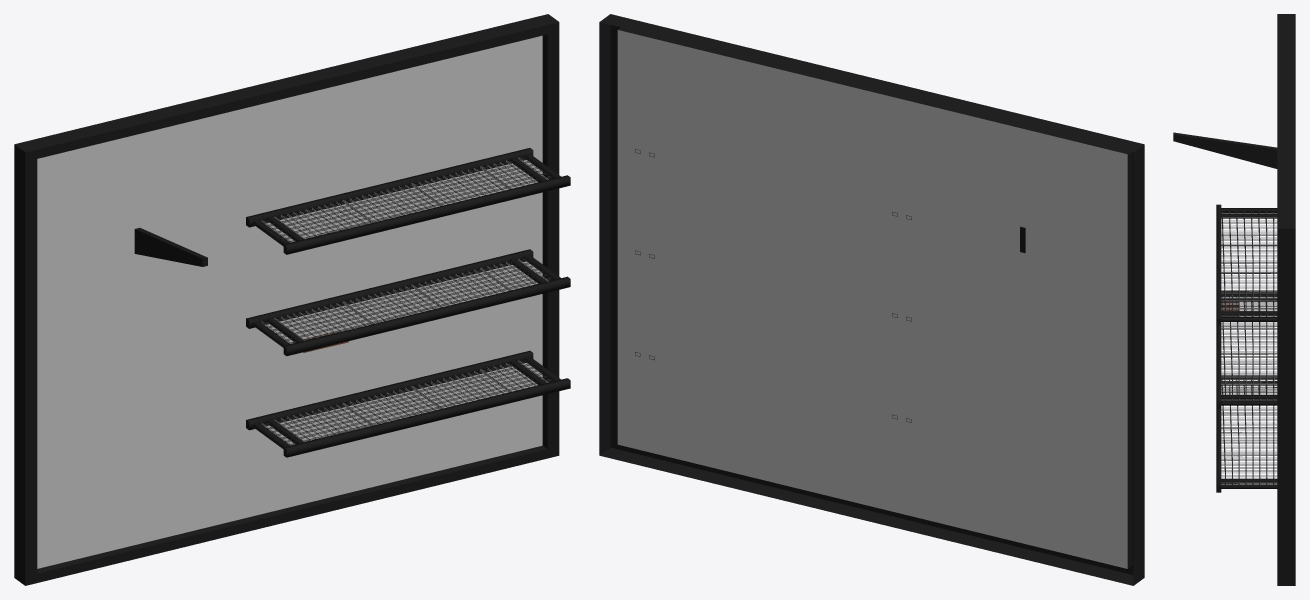
The model's file is Prop_Shelf_Rack.FBX.
3 views of the same model, side by side, from view 1: azimuth 30°, elevation 25°; view 2: azimuth 150°, elevation 25°; view 3: azimuth 270°, elevation 25° (orthographic). The views are drawn at different scales.
Parts seen in each view (by area): view 1: Prop_Shelf_Rack; view 2: Prop_Shelf_Rack; view 3: Prop_Shelf_Rack.
Part boxes in pixels (x1,y1,x2,y2): Prop_Shelf_Rack: [14, 14, 570, 585]; Prop_Shelf_Rack: [599, 14, 1144, 585]; Prop_Shelf_Rack: [1173, 14, 1295, 585].
Bounding box in the file's own units: 1.77 × 1.37 × 0.4263.
